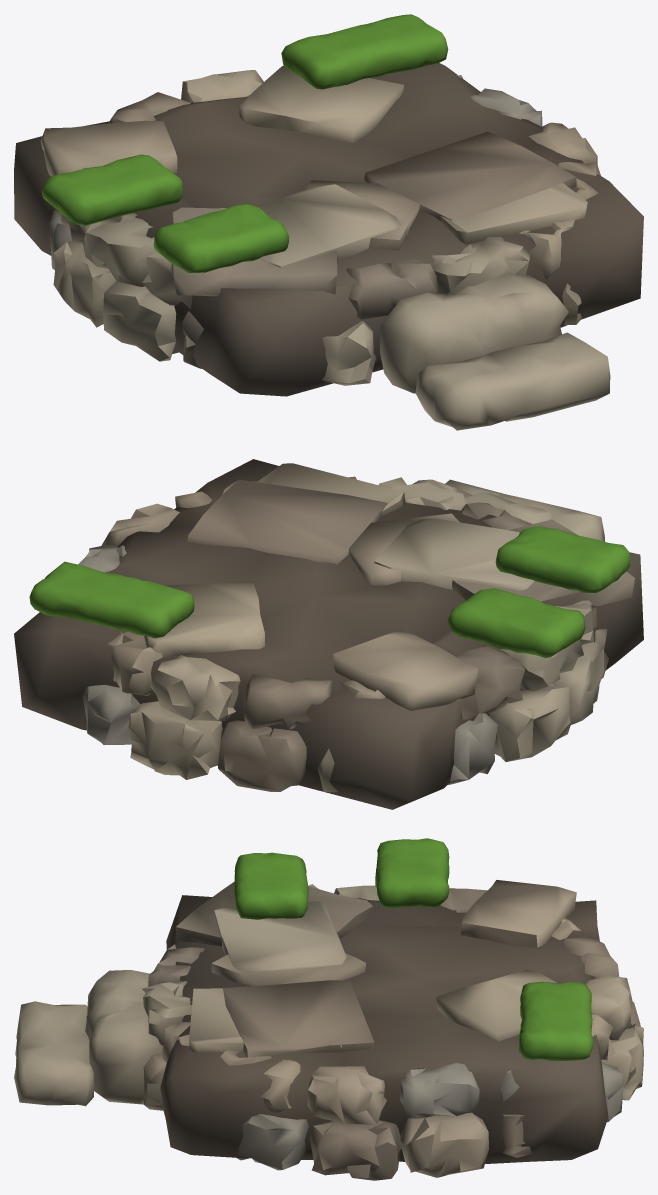
File: glade_portal_plinth_c.glb
3 renders of one model, top to bottom at view 1: azimuth 30°, elevation 25°; view 2: azimuth 150°, elevation 25°; view 3: azimuth 270°, elevation 25°, orthographic. The views are drawn at different scales.
Parts seen in each view (by area): view 1: glade_portal_plinth_c; view 2: glade_portal_plinth_c; view 3: glade_portal_plinth_c.
Part boxes in pixels (bbox=[...]): glade_portal_plinth_c: bbox=[14, 14, 643, 430]; glade_portal_plinth_c: bbox=[14, 459, 643, 809]; glade_portal_plinth_c: bbox=[14, 838, 643, 1180].
Size of the model in its own units: 7.44 by 2.03 by 8.74.
